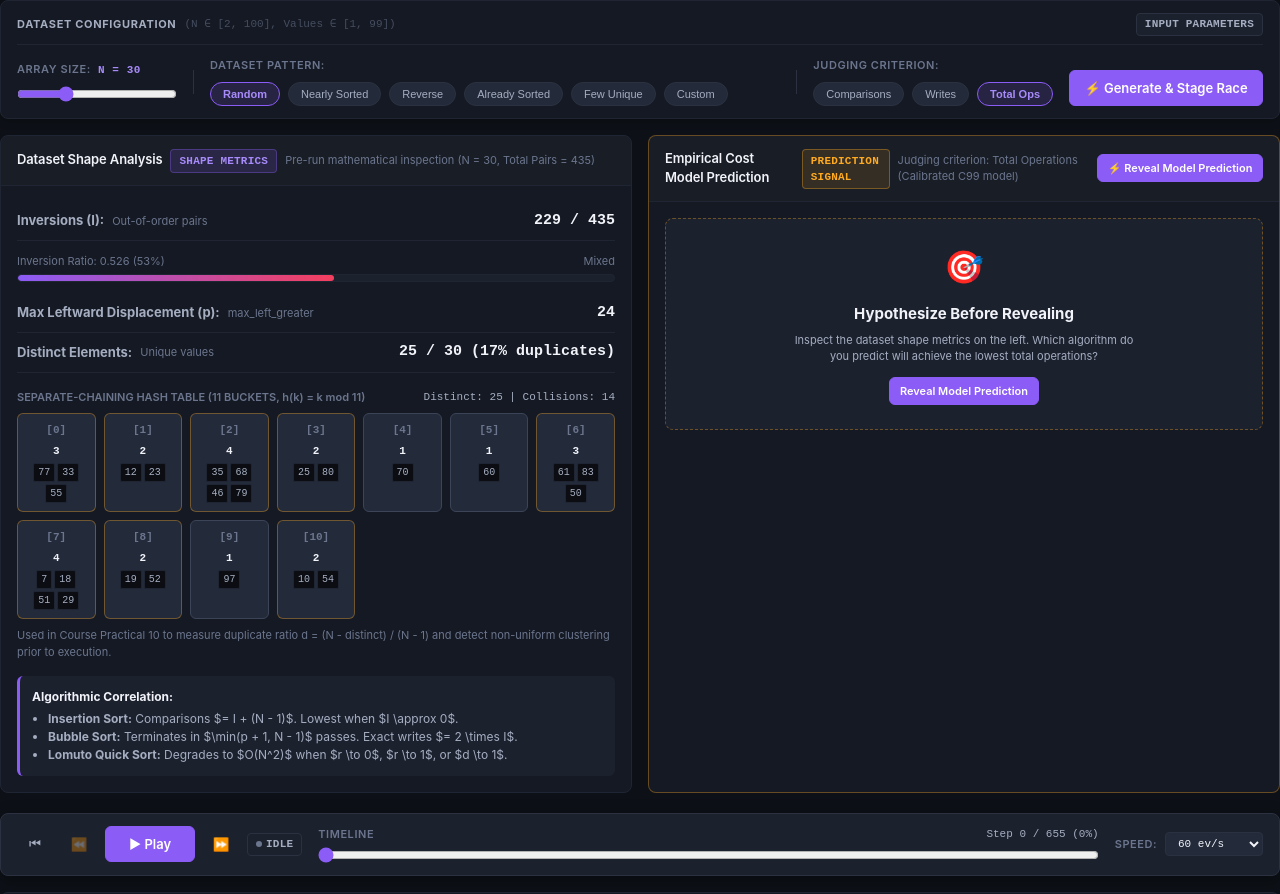
Scenario: Phase 5 End-to-End Integration — Shape, Prediction, Race, and Scoreboard › invalid custom input preserves previous valid dataset analysis
The width and height of the screenshot is (1280, 894).
Expected: the heading "Dataset Shape Analysis" is shown, x1=17 y1=150 x2=162 y2=170
// Select custom pattern
Click the radio button labelled "Custom" at {"x": 696, "y": 94}, box x1=664 y1=82 x2=728 y2=106
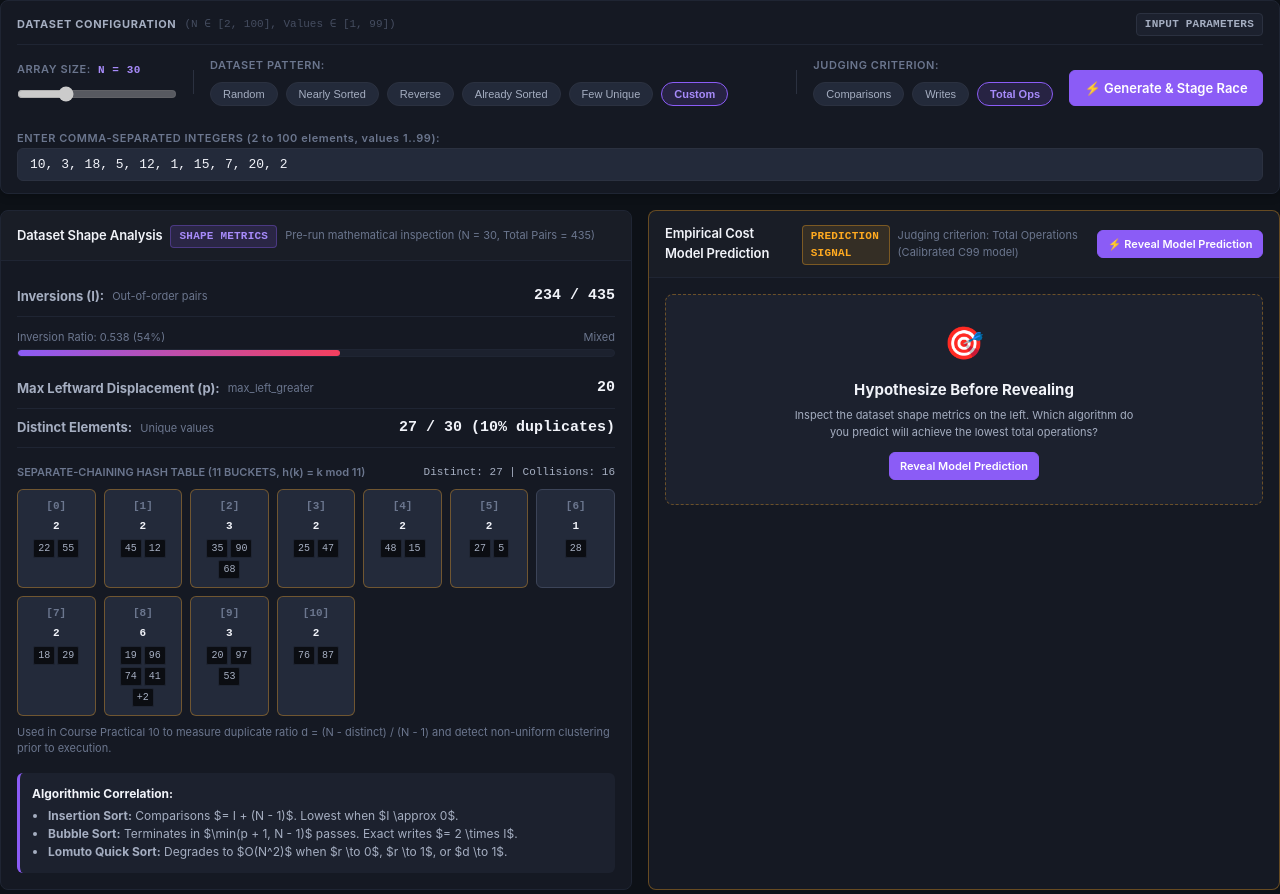
Replace the text in the field with placeholder "e.g. 42, 17, 88, 3, 99, 12, 55, 30" with "100, 20, 30" at {"x": 640, "y": 165}, box x1=17 y1=148 x2=1263 y2=181
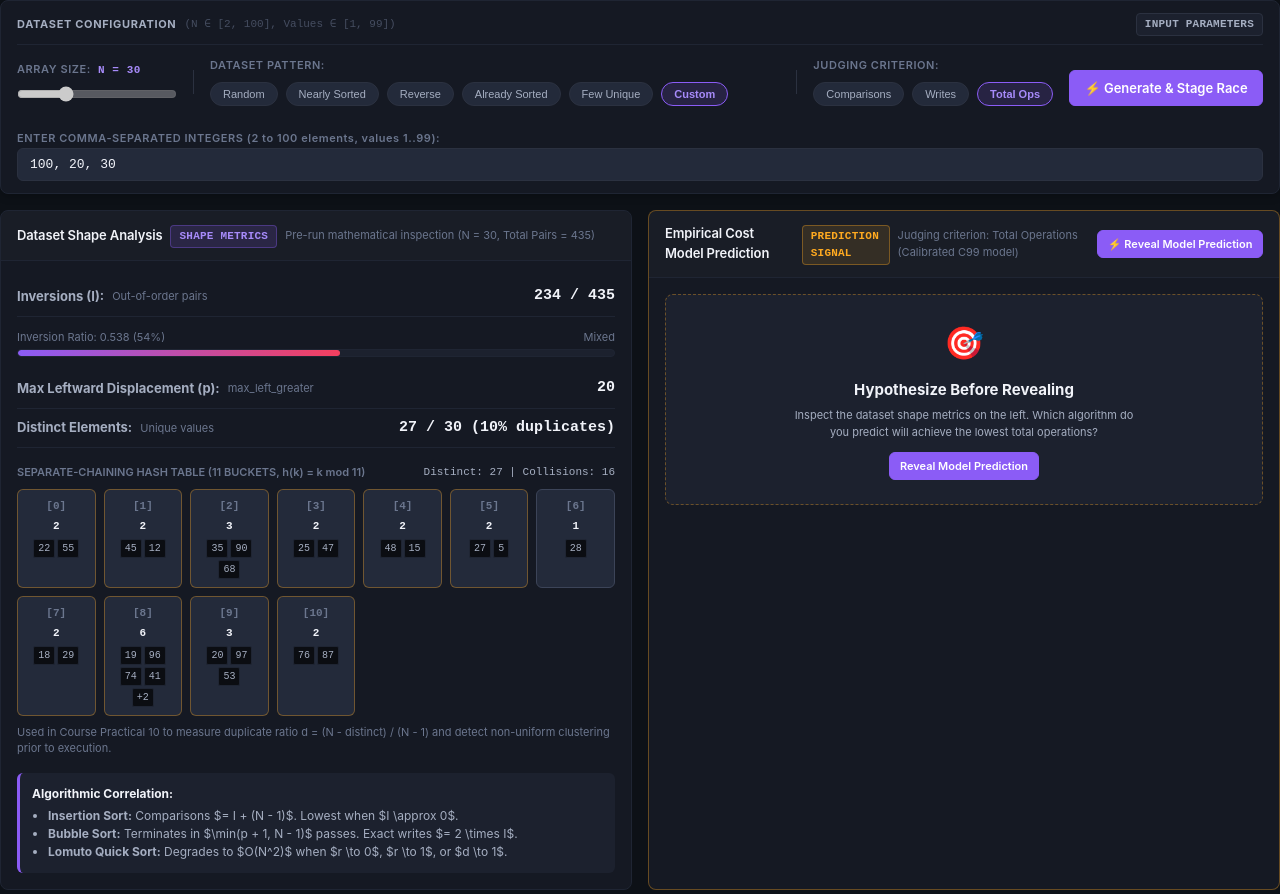
Click the button "⚡ Generate & Stage Race" at {"x": 1166, "y": 88}, box x1=1069 y1=70 x2=1263 y2=106
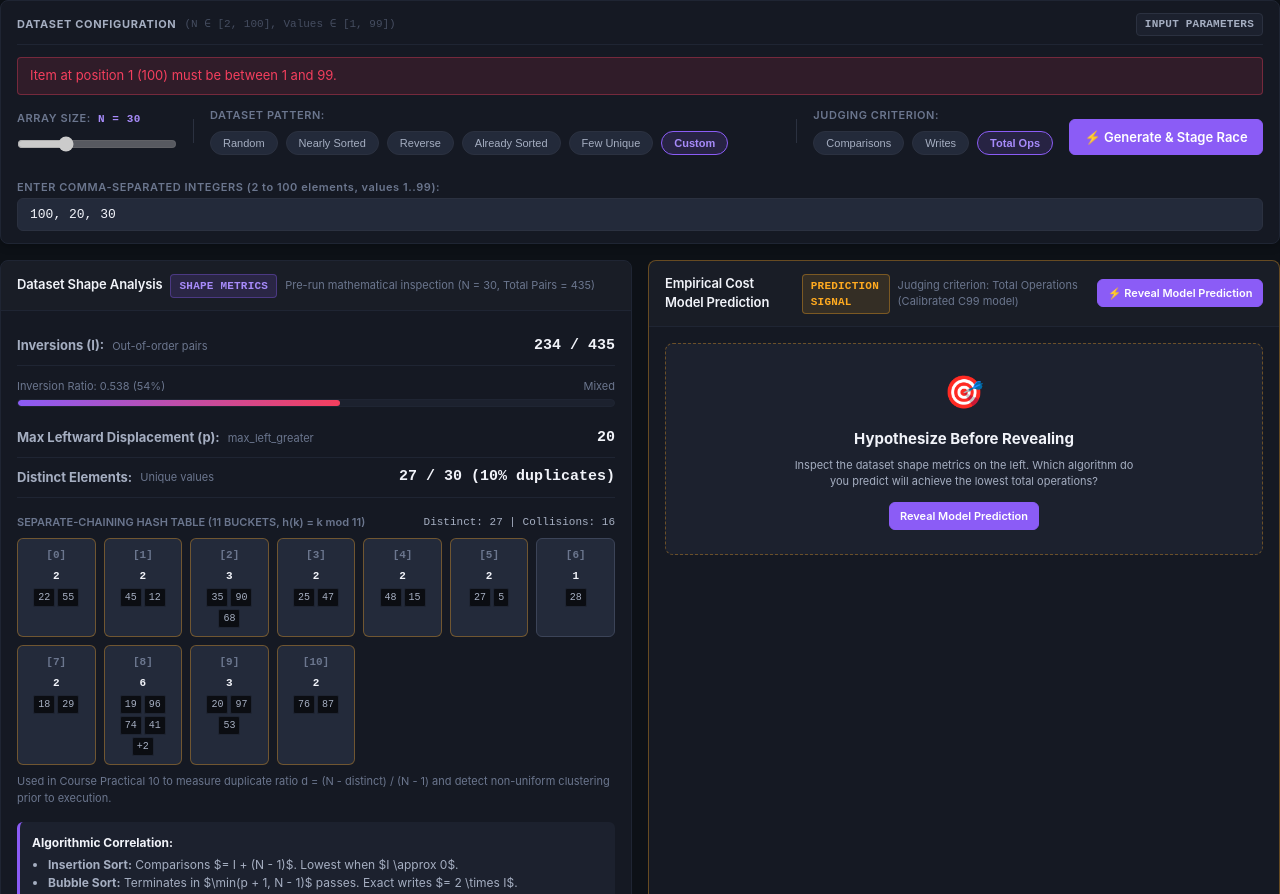
Expected: the heading "Dataset Shape Analysis" is shown, x1=17 y1=276 x2=162 y2=295
Result: the text "Item at position 1 (100) must be between 1 and 99." is shown at x1=17 y1=57 x2=1263 y2=95
